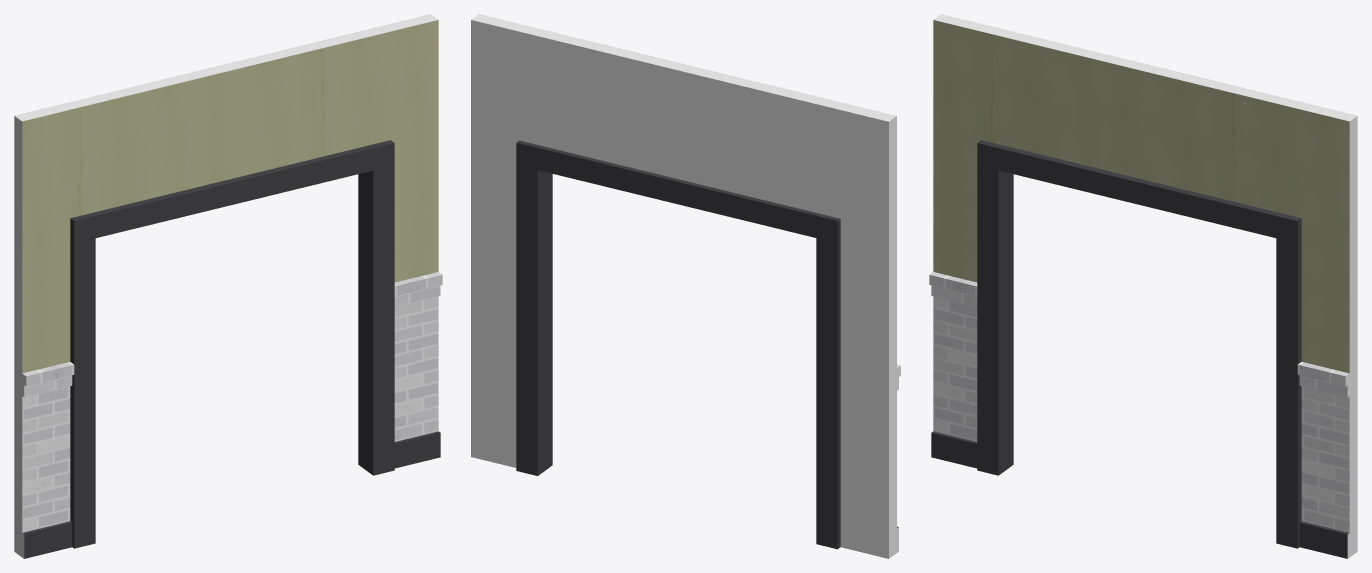
Rendered from SM_Buildings_WallDoorDouble_3x3_01.fbx.
The picture shows the model from 3 angles, left to right: view 1: azimuth 30°, elevation 25°; view 2: azimuth 150°, elevation 25°; view 3: azimuth 330°, elevation 25°; orthographic projection.
Parts seen in each view (by area): view 1: SM_Buildings_WallDoorDouble_3x3_01; view 2: SM_Buildings_WallDoorDouble_3x3_01; view 3: SM_Buildings_WallDoorDouble_3x3_01.
Boxes of the visible parts, left/top/right/bottom form: SM_Buildings_WallDoorDouble_3x3_01: left=14, top=14, right=442, bottom=558; SM_Buildings_WallDoorDouble_3x3_01: left=471, top=14, right=900, bottom=558; SM_Buildings_WallDoorDouble_3x3_01: left=929, top=14, right=1357, bottom=558.
Size of the model in its own units: 300 by 300 by 18.64.
1 material, 1 textured.
